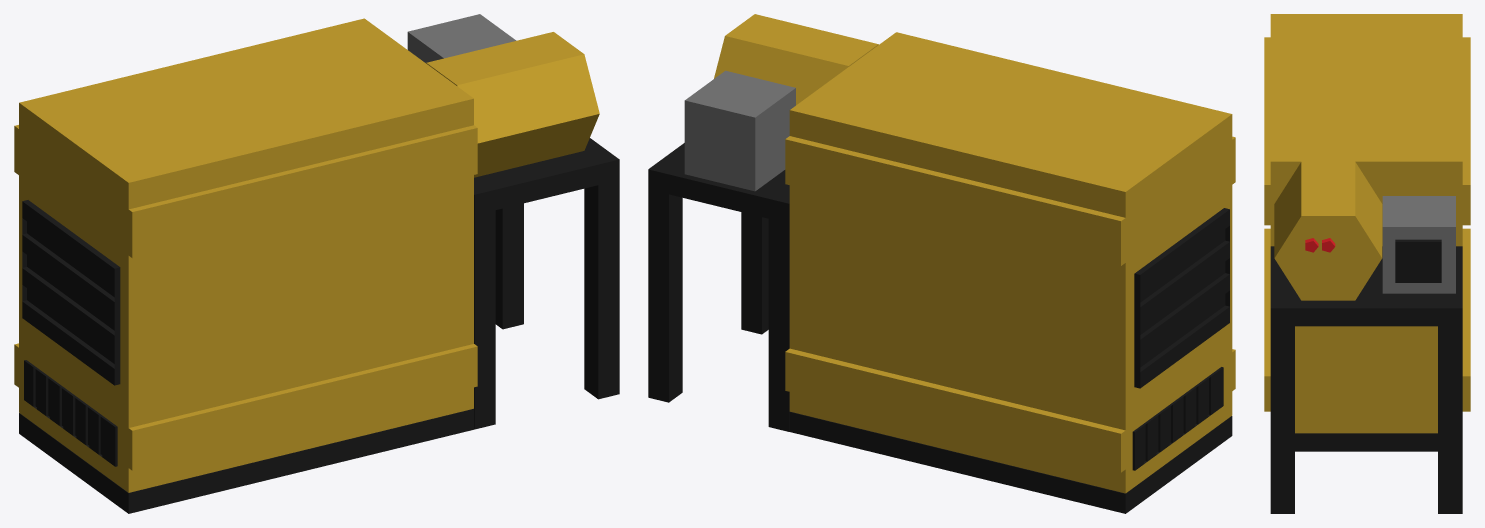
Rendered from Generator.fbx.
The picture shows the model from 3 angles, left to right: view 1: azimuth 30°, elevation 25°; view 2: azimuth 150°, elevation 25°; view 3: azimuth 270°, elevation 25°; orthographic projection. The views are drawn at different scales.
Parts seen in each view (by area): view 1: Plano.002, Plano, Cilindro, Cubo.001, Plano.001, Cubo.002, Cubo; view 2: Plano.002, Plano, Cubo.001, Cubo, Plano.001, Cilindro, Cubo.002; view 3: Plano.002, Plano, Cilindro, Cubo, Plano.001, Cubo.004.
Part boxes in pixels (x1,y1,x2,y2): Plano.002: [14, 18, 477, 492]; Plano: [474, 138, 619, 429]; Cilindro: [426, 32, 599, 177]; Cubo.001: [22, 200, 120, 385]; Plano.001: [19, 409, 473, 513]; Cubo.002: [24, 360, 117, 466]; Cubo: [407, 14, 516, 62]; Plano.002: [785, 32, 1235, 493]; Plano: [648, 143, 789, 431]; Cubo.001: [1134, 208, 1229, 388]; Cubo: [684, 70, 795, 191]; Plano.001: [789, 411, 1232, 513]; Cilindro: [714, 14, 878, 105]; Cubo.002: [1132, 367, 1223, 470]; Plano.002: [1264, 14, 1470, 433]; Plano: [1270, 246, 1462, 513]; Cilindro: [1274, 161, 1382, 300]; Cubo: [1382, 196, 1455, 293]; Plano.001: [1295, 433, 1437, 451]; Cubo.004: [1395, 239, 1441, 282].
Bounding box in the file's own units: 344 × 220 × 142.
